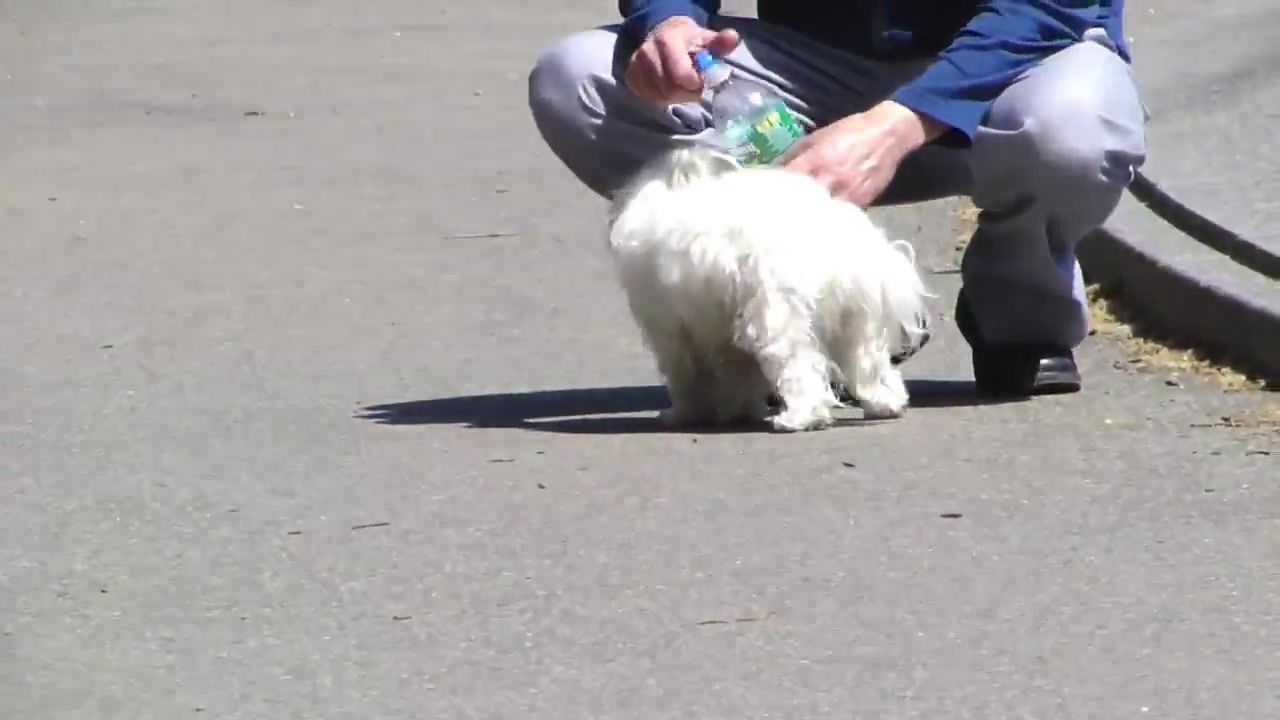dog: (609, 151, 932, 435)
